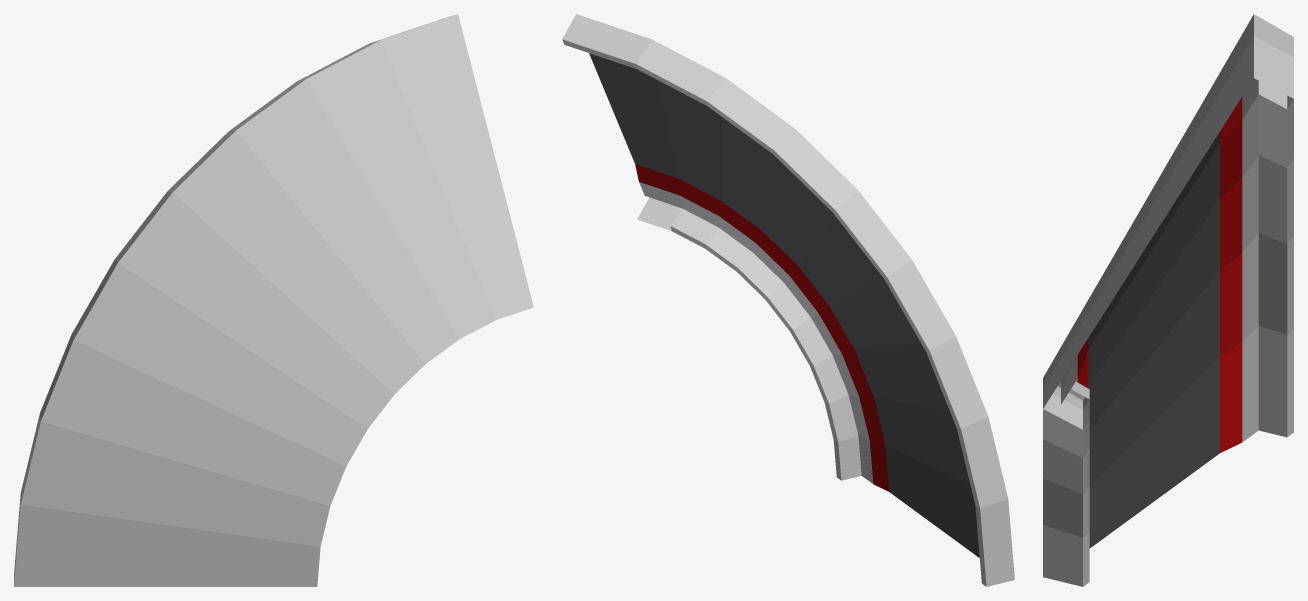
Rendered from Turn_Pitch2.fbx.
3 views of the same model, side by side, from view 1: azimuth 30°, elevation 25°; view 2: azimuth 150°, elevation 25°; view 3: azimuth 270°, elevation 25° (orthographic). The views are drawn at different scales.
Visible parts, largest first — view 1: Turn_Pitch2; view 2: Turn_Pitch2; view 3: Turn_Pitch2.
Part boxes in pixels (x1,y1,x2,y2): Turn_Pitch2: [14, 14, 533, 586]; Turn_Pitch2: [562, 14, 1014, 586]; Turn_Pitch2: [1043, 14, 1293, 586].
Size of the model in its own units: 2164 by 2164 by 761.
